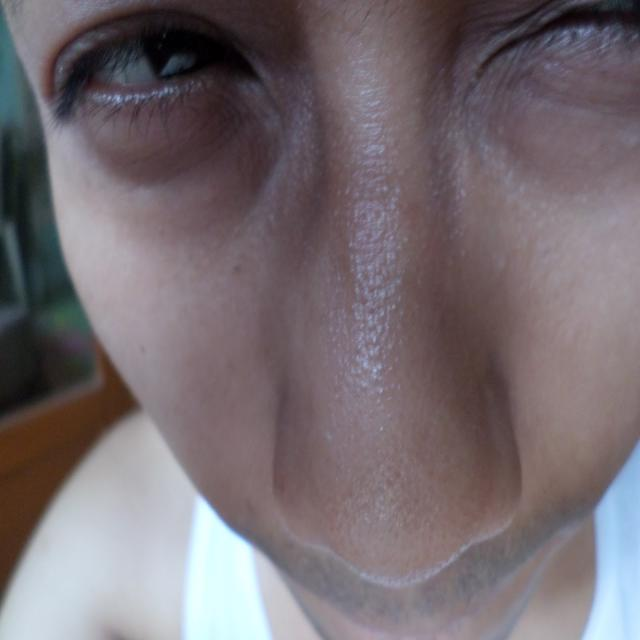Acne: (283, 448, 481, 589)
